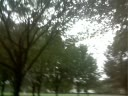window: (54, 53, 79, 96), (91, 7, 107, 33), (63, 3, 77, 32), (30, 0, 41, 28), (0, 0, 9, 26), (120, 8, 128, 35)
